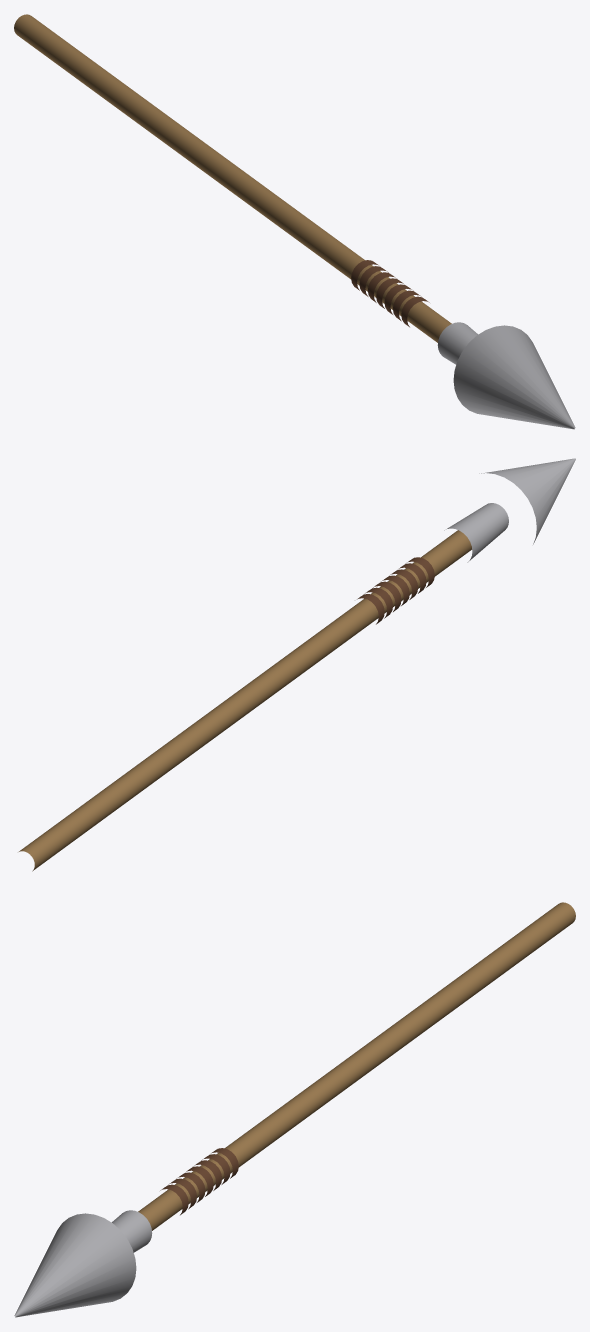
Rendered from spear.glb.
The picture shows the model from 3 angles, top to bottom: view 1: azimuth 30°, elevation 25°; view 2: azimuth 150°, elevation 25°; view 3: azimuth 330°, elevation 25°; orthographic projection.
Parts seen in each view (by area): view 1: VikingSpear; view 2: VikingSpear; view 3: VikingSpear.
Boxes of the visible parts, x1=… form: VikingSpear: x1=14, y1=14, x2=575, y2=429; VikingSpear: x1=19, y1=458, x2=575, y2=871; VikingSpear: x1=14, y1=902, x2=575, y2=1317.
Bounding box in the file's own units: 0.24 × 0.24 × 2.75.
